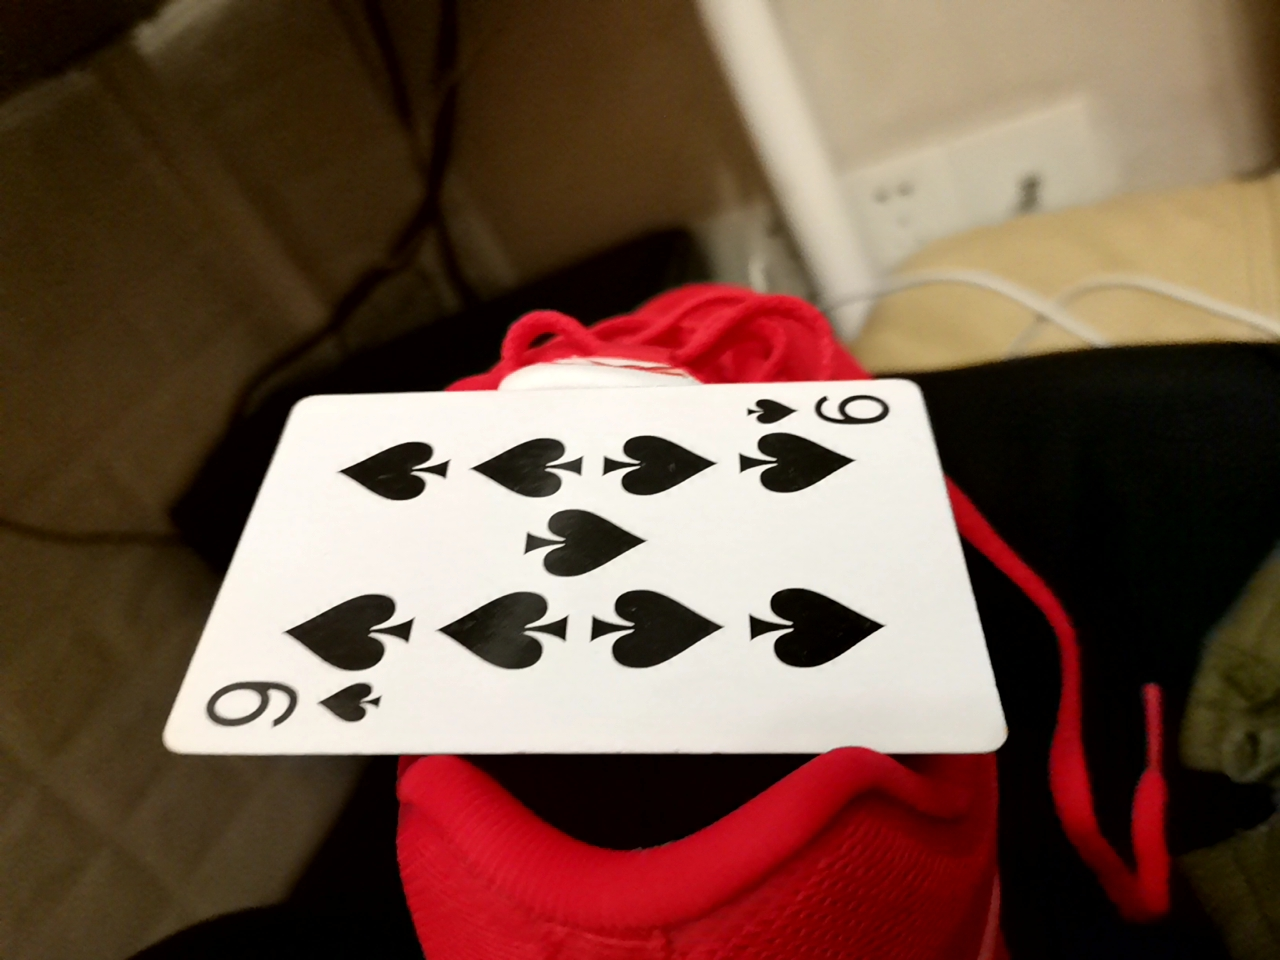ht 9: (155, 368, 995, 766)
